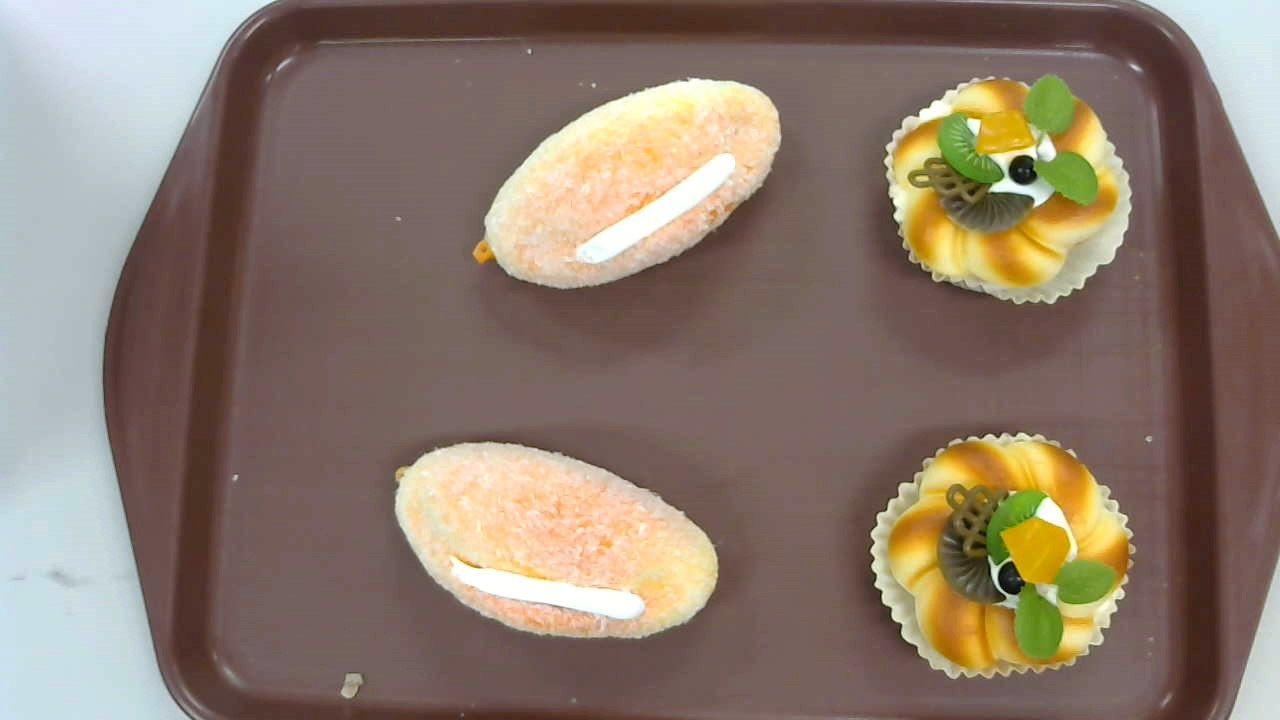coconut: (472, 77, 782, 290), (394, 439, 720, 641)
fruit tart: (871, 430, 1136, 684), (884, 75, 1130, 306)
